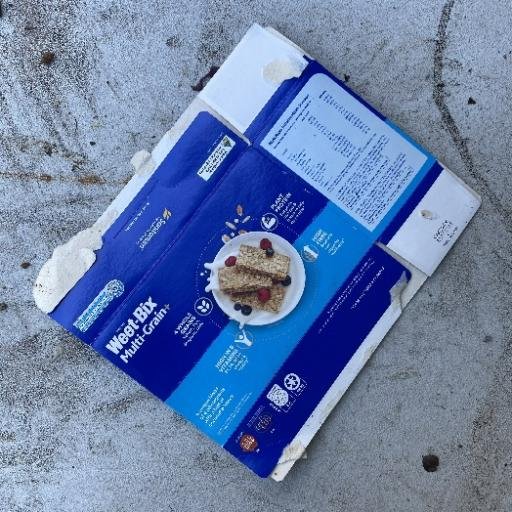Cardboard: (31, 22, 483, 482)
